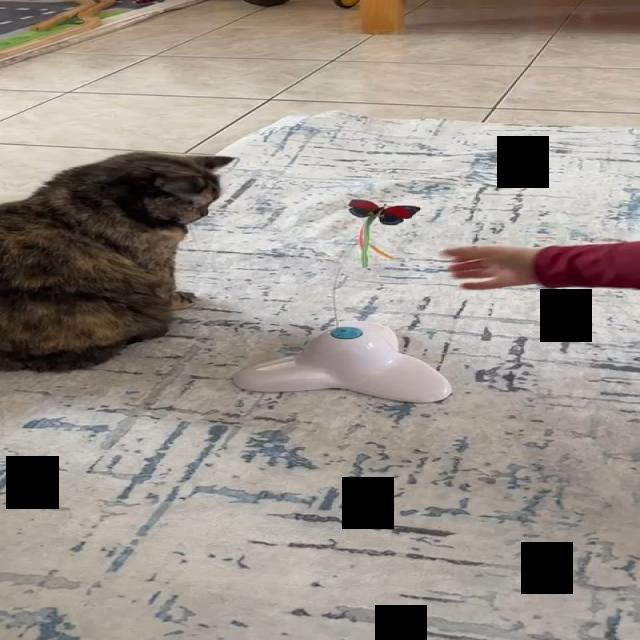authorized: (0, 150, 237, 372)
